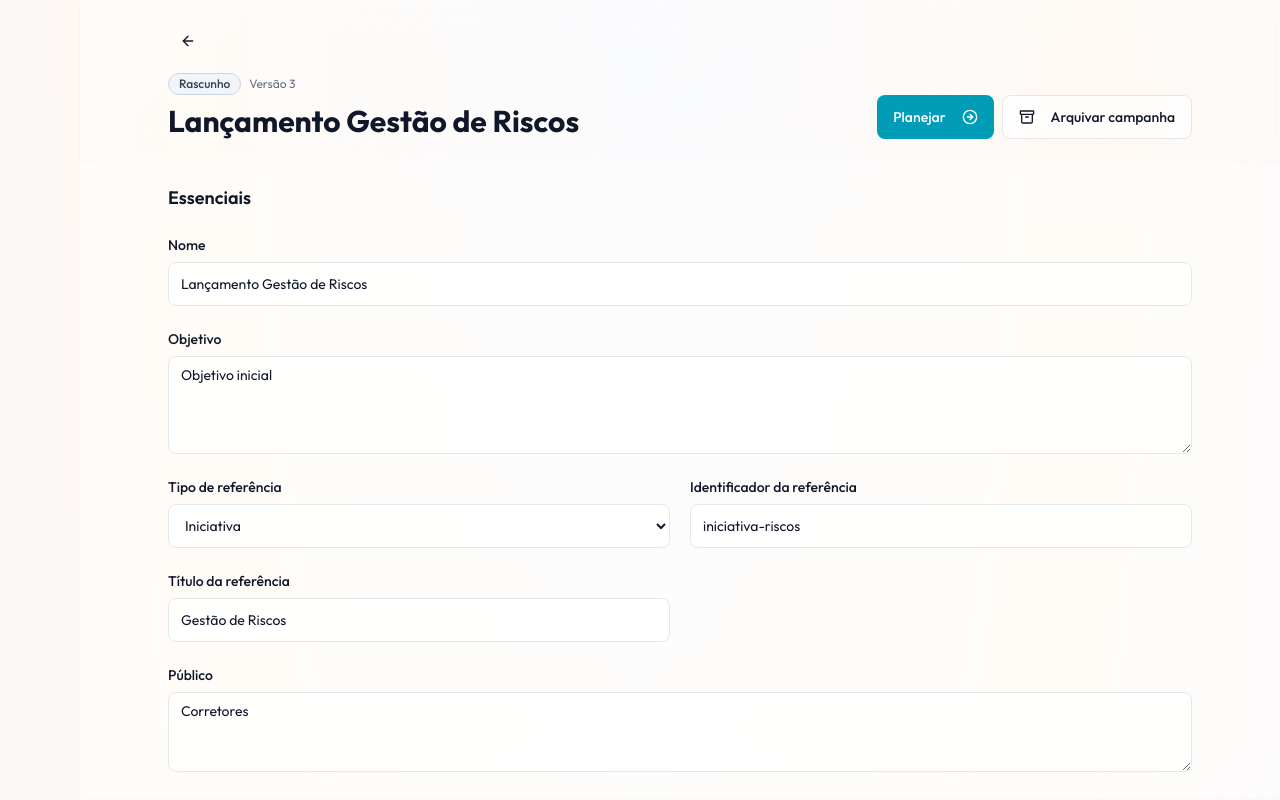
CampaignWorkspacePage › preserves local values on 409 and reapplies only the local patch over the fresh version
The image size is (1280, 800).
Step 1. Replace the text in the text box labelled "Objetivo" with "Objetivo local" → (680, 405), box [168,356,1192,454]
(page scrolled)
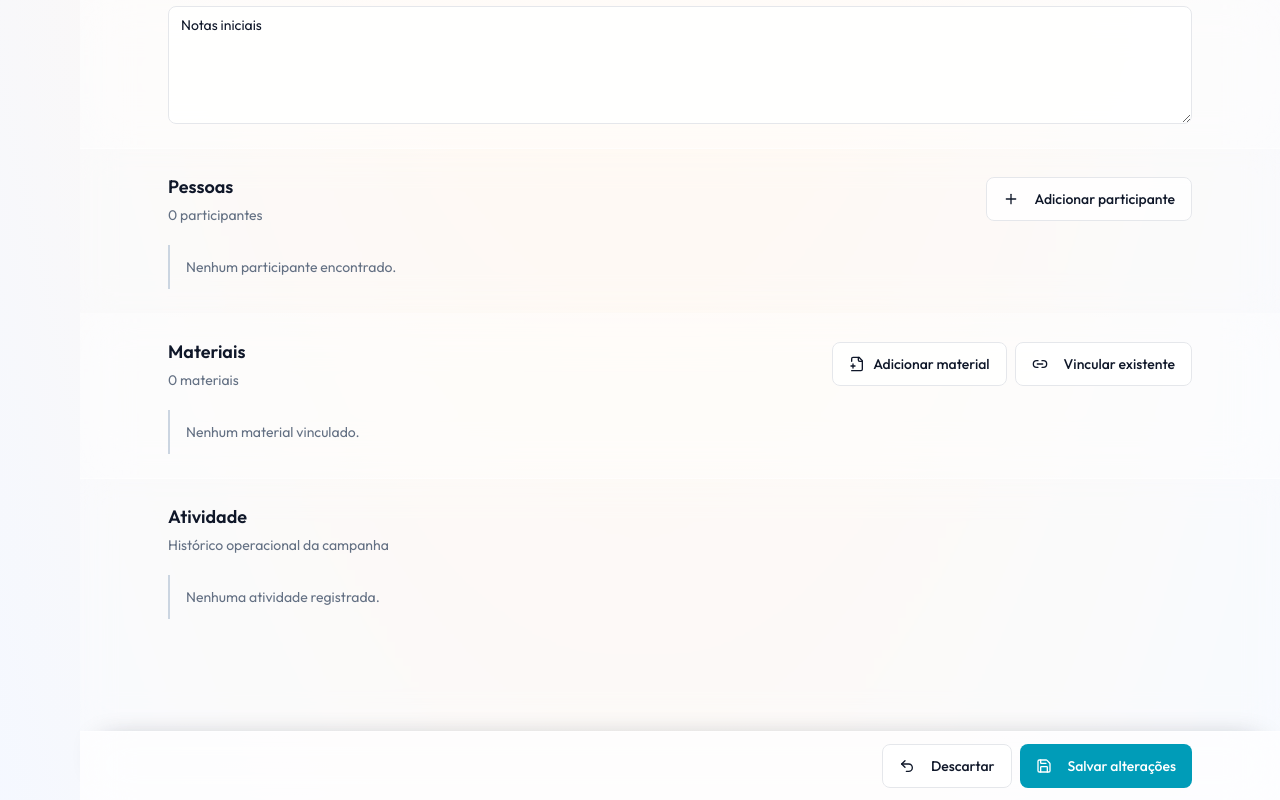
Step 2. Click the button "Salvar alterações" → (1106, 766), box [1020,744,1192,788]
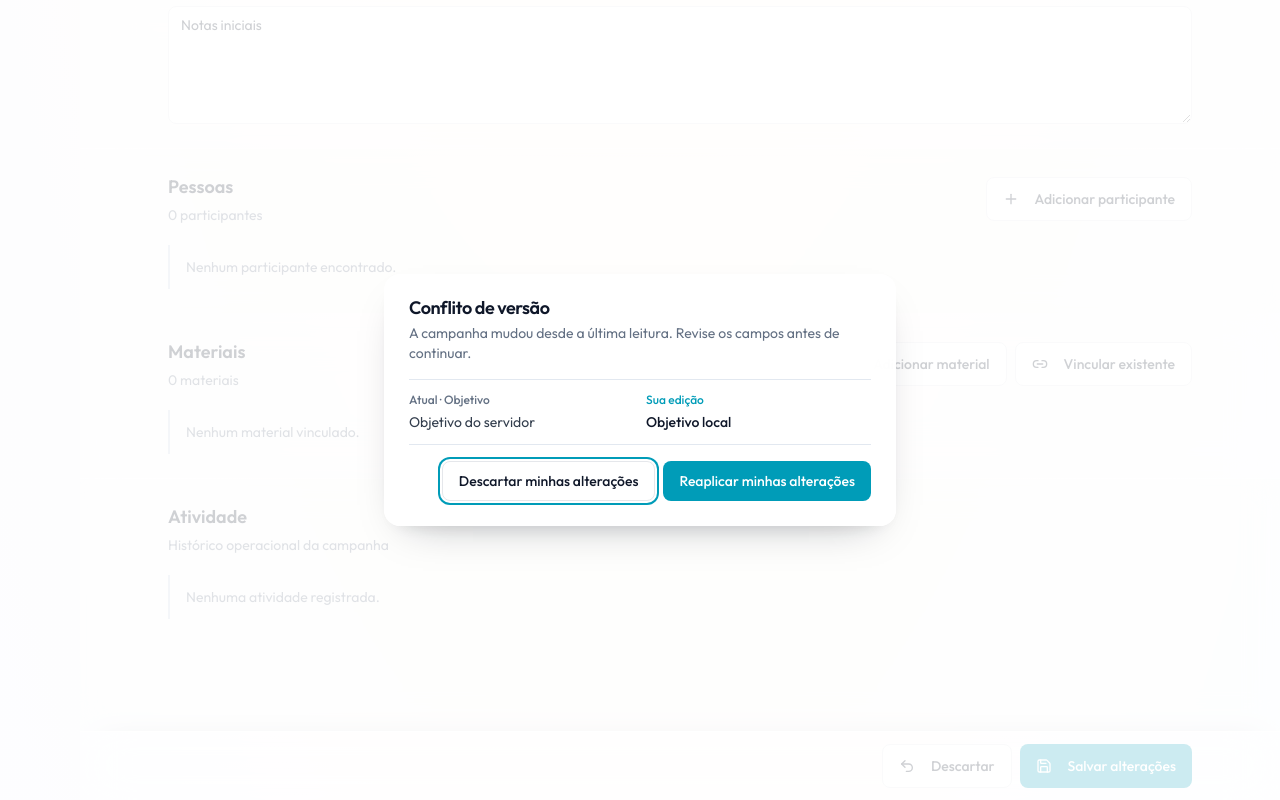
Check: the dialog "Conflito de versão" is shown, box [384,274,896,526]
Check: the text "Objetivo do servidor" is shown, box [409,413,535,431]
Step 3. Click the button "Reaplicar minhas alterações" → (767, 481), box [664,461,871,501]
(page scrolled)
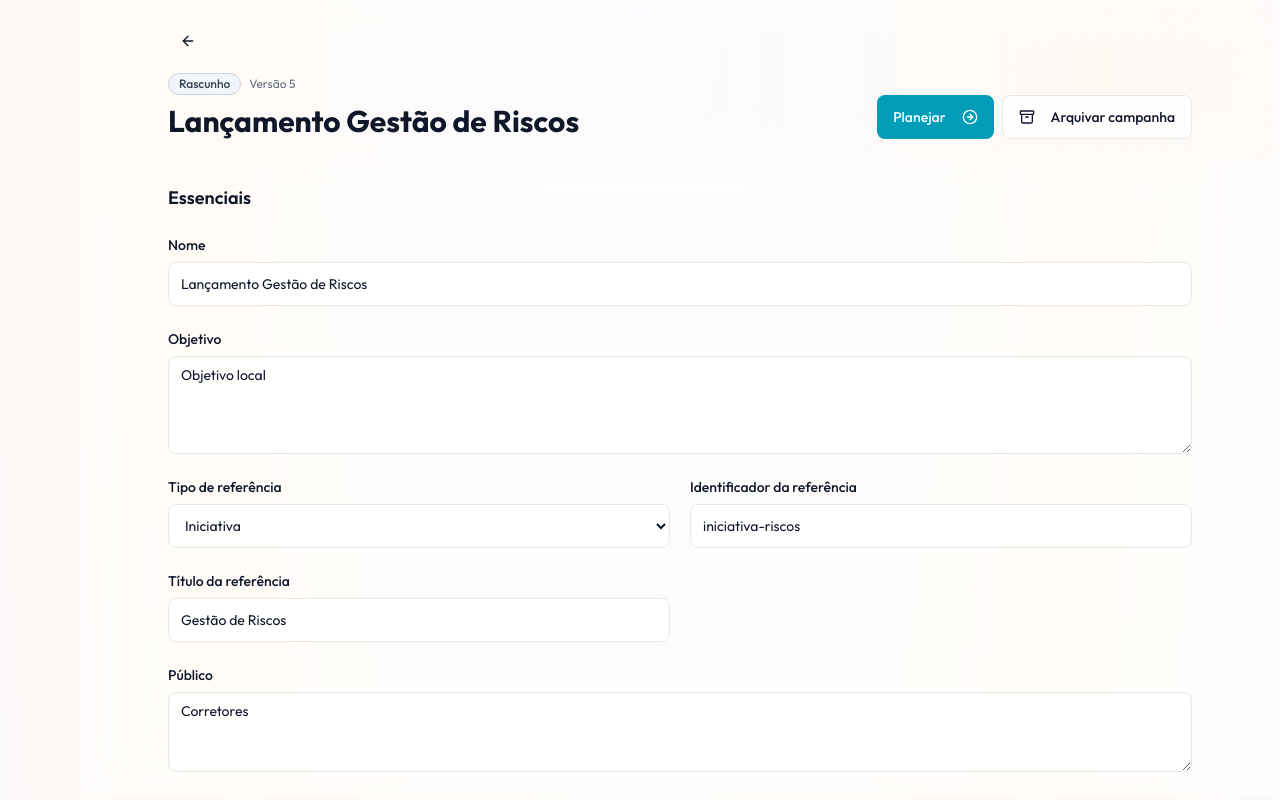
Check: the text "Versão 5" is shown, box [249,76,296,92]
Check: the heading "Conflito de versão" is gone
